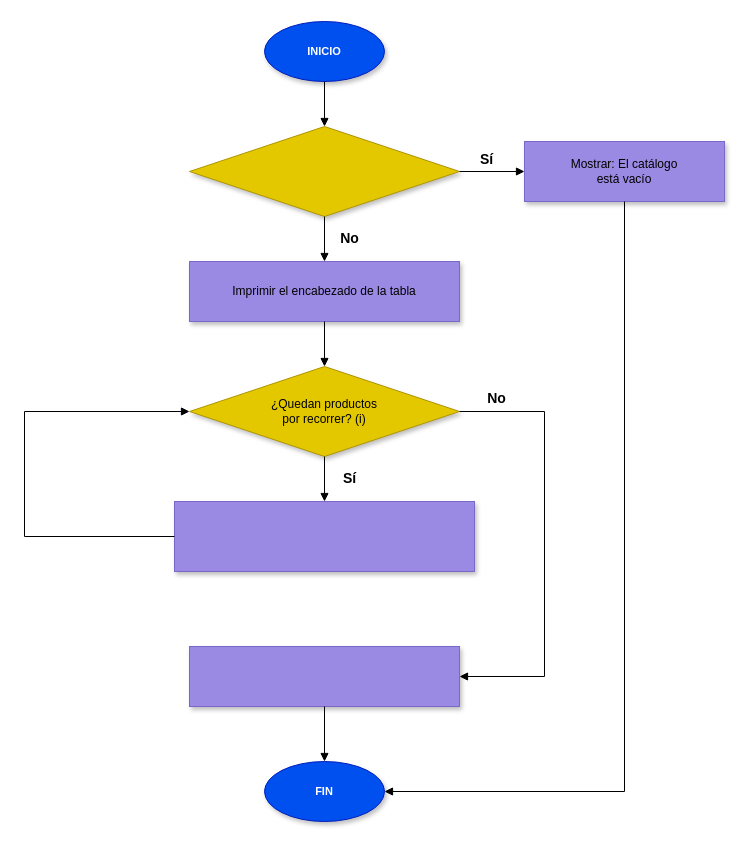
The diagram is 748 pixels wide and 846 high, and some of its shapes have lost their labels. Here are the shapes that lost their labels. From the top down, the centre of each, then its label:
At [325,173]: "¿El catálogo está vacío?".
At [325,537]: "Imprimir la fila i: código, descripción, tipo, cantidad y precio (2 decimales)".
At [325,678]: "Mostrar el total de productos".
